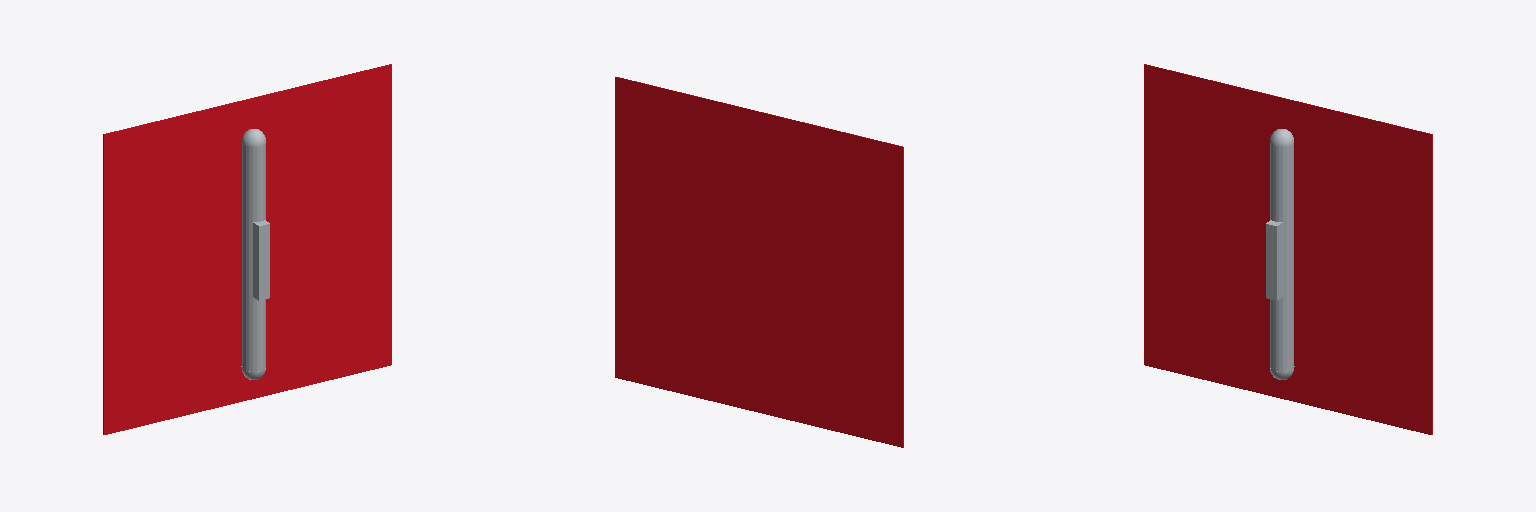
Rendered from imSAR-nsp-3.obj.
3 renders of one model, left to right at view 1: azimuth 30°, elevation 25°; view 2: azimuth 150°, elevation 25°; view 3: azimuth 330°, elevation 25°, orthographic.
Visible parts, largest first — view 1: obj_0; view 2: obj_0; view 3: obj_0.
Boxes of the visible parts, box(x1,y1,x2,y2) form: obj_0: box(103, 64, 391, 434); obj_0: box(615, 77, 903, 447); obj_0: box(1144, 64, 1432, 434).
Size of the model in its own units: 400 by 400 by 42.